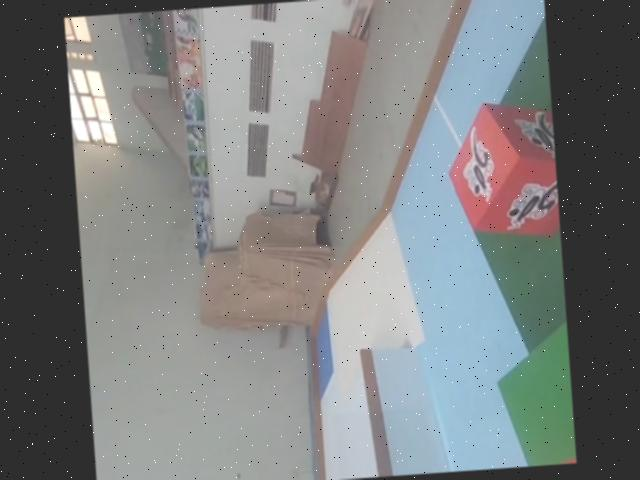R1: (442, 98, 560, 242)
